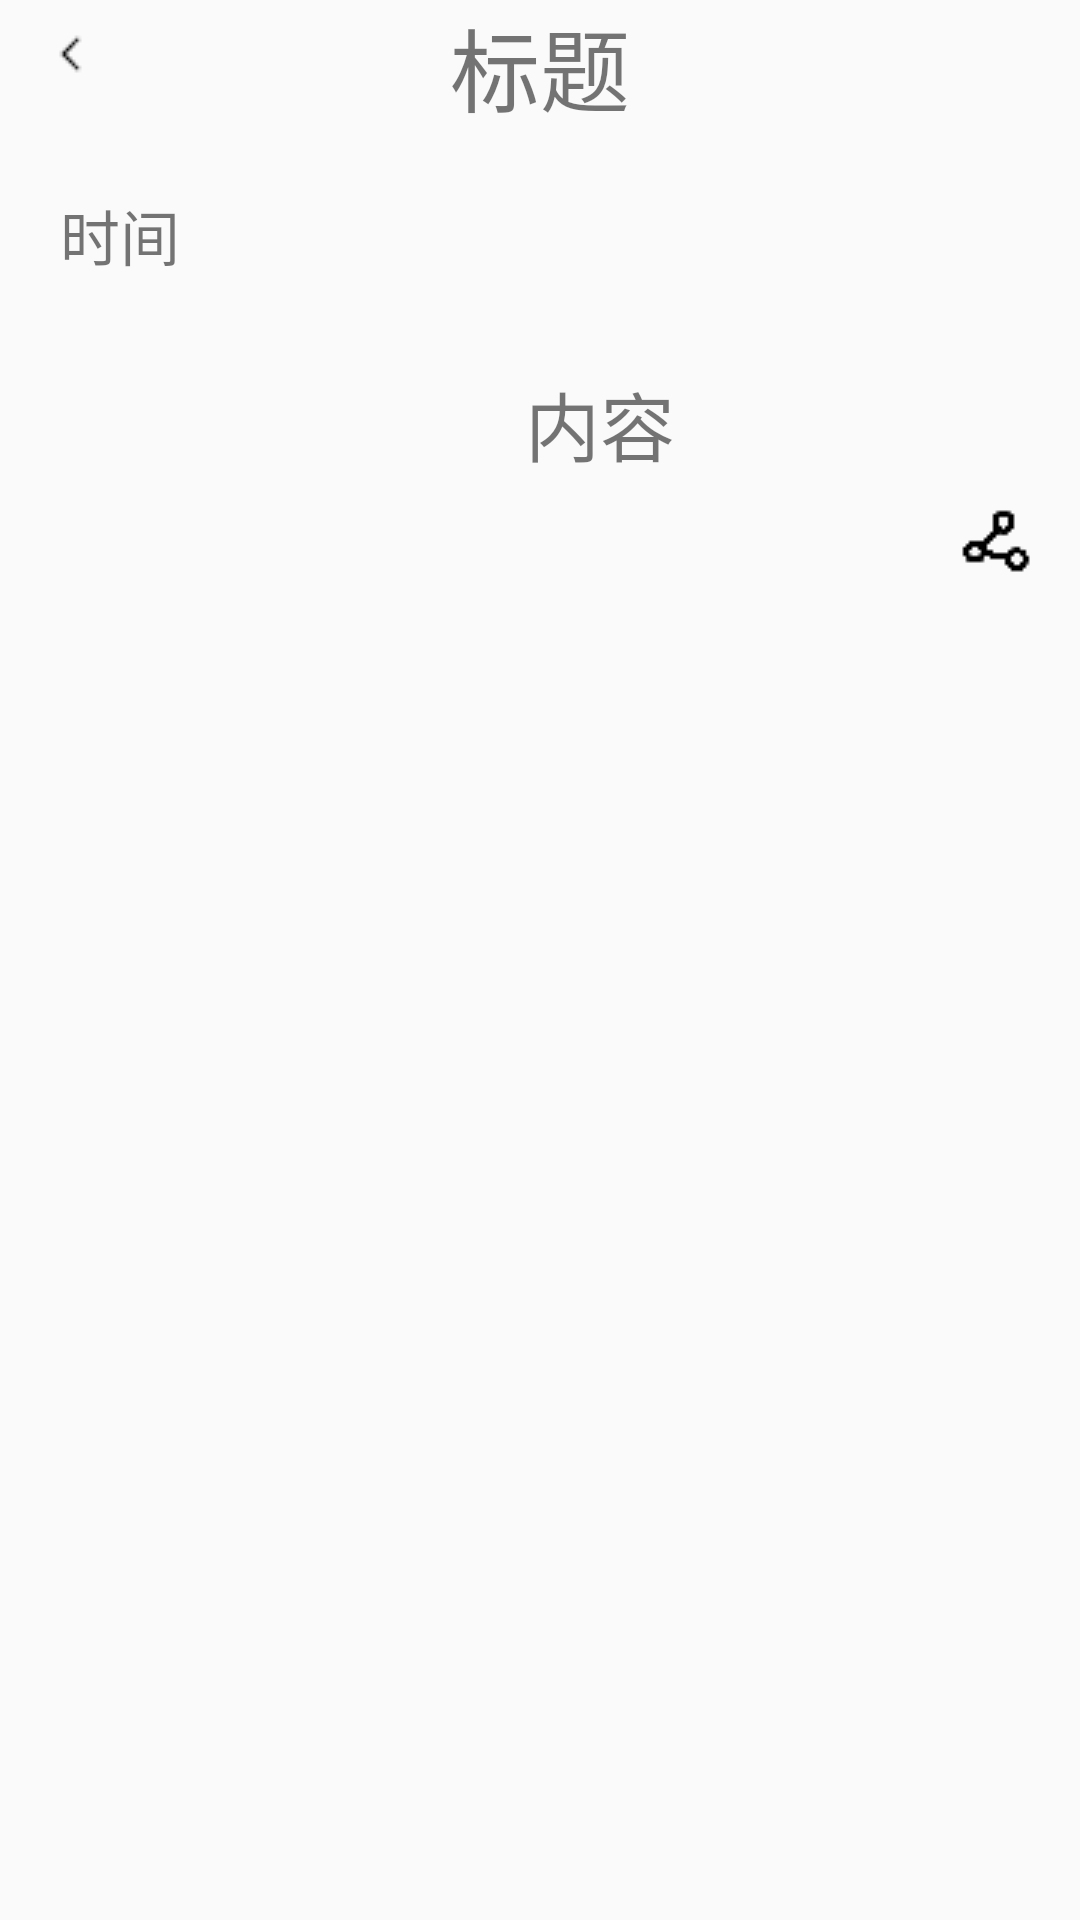

Icons on this 1080 × 1920 Android screen, each with its box as (x1, y1, x2, y2):
back: (60, 36, 81, 72)
share: (962, 510, 1030, 572)
